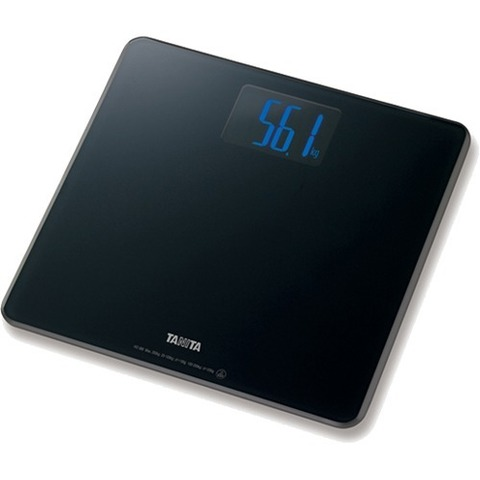LCD: (218, 83, 344, 169)
